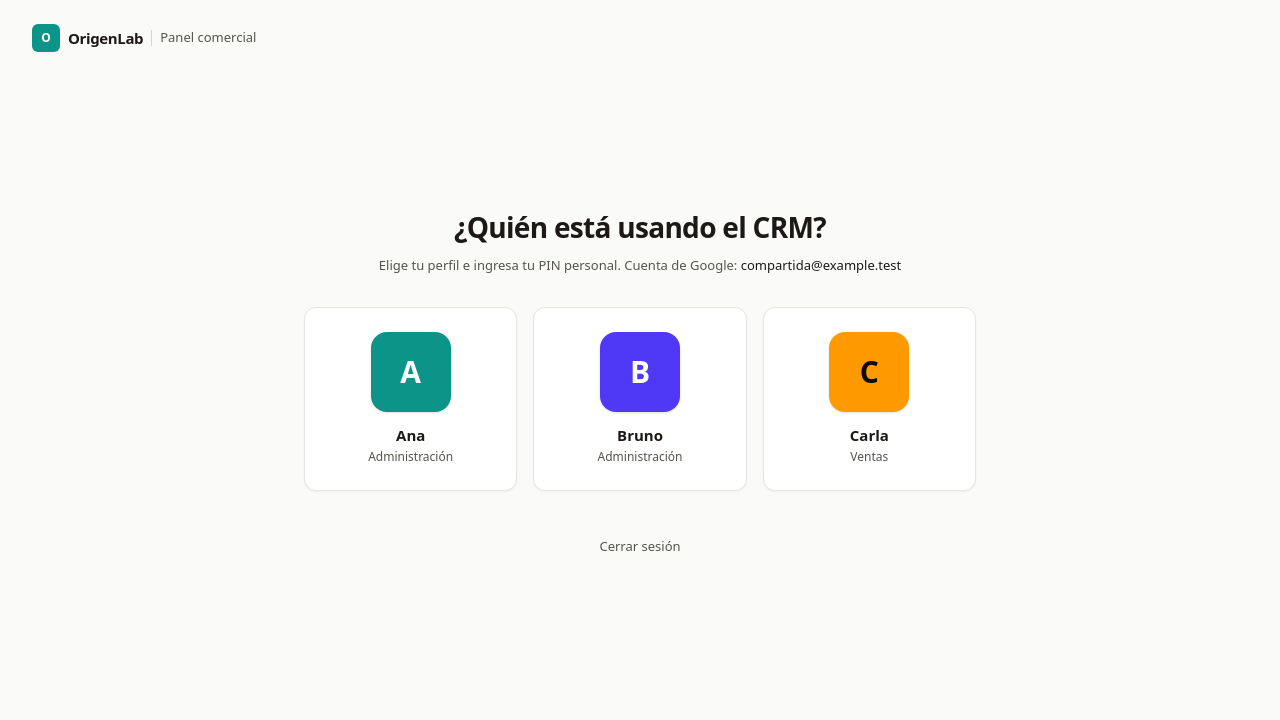
it: the profile screen › closes the dialog with Escape or Cancelar without sending anything
Click the button with test id "profile-card" at (640, 399), box [533,307,747,491]
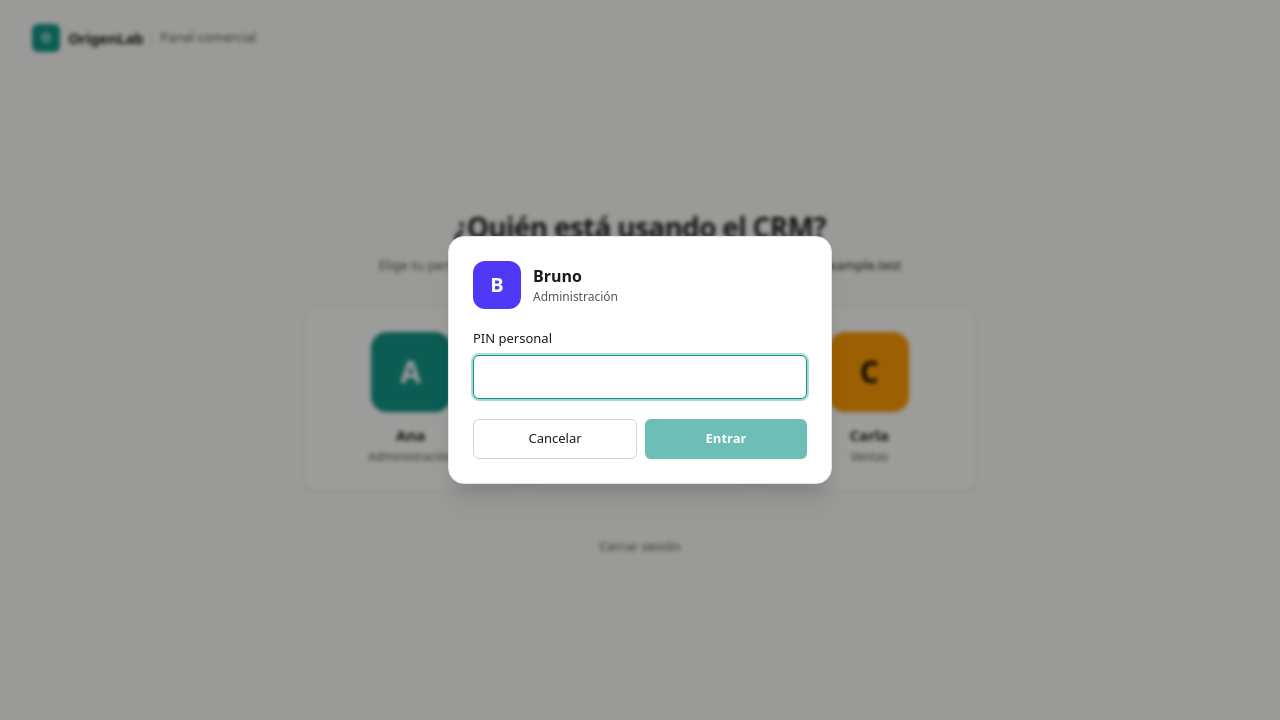
Press Escape in the dialog with test id "pin-dialog", box [448,236,832,484]
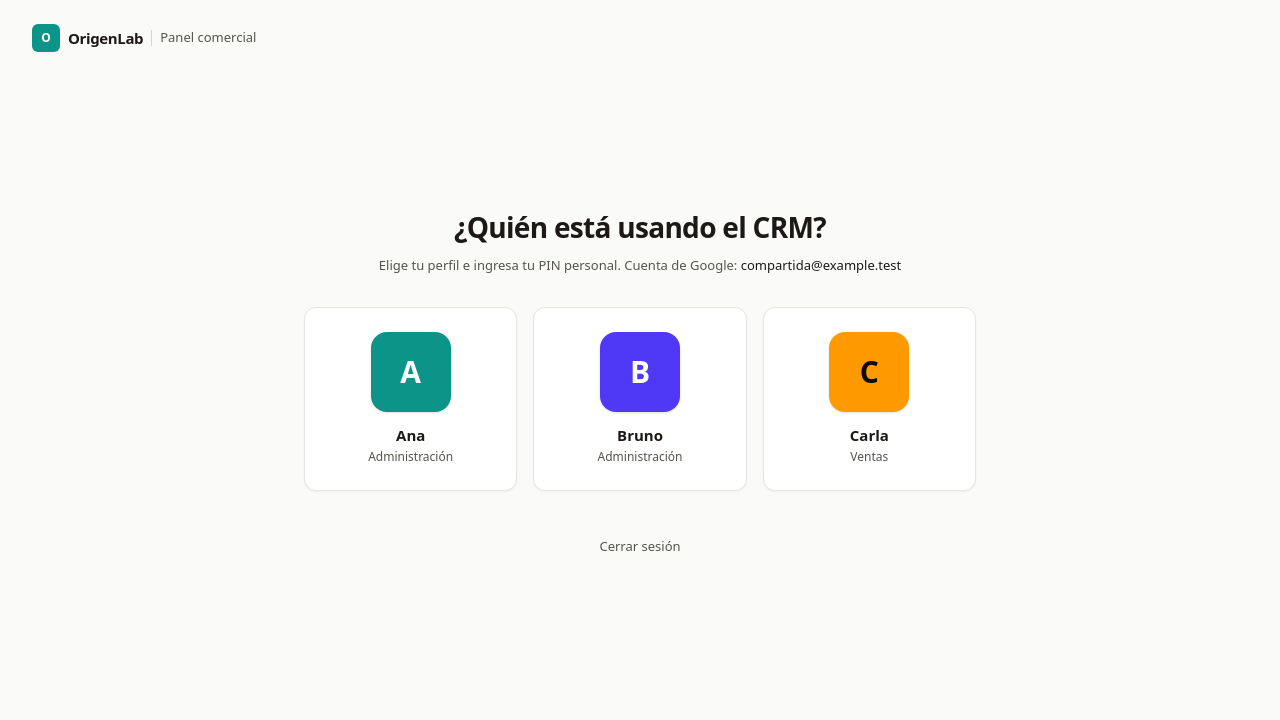
Check: the dialog with test id "pin-dialog" is gone
Click the button with test id "profile-card" at (640, 399), box [533,307,747,491]
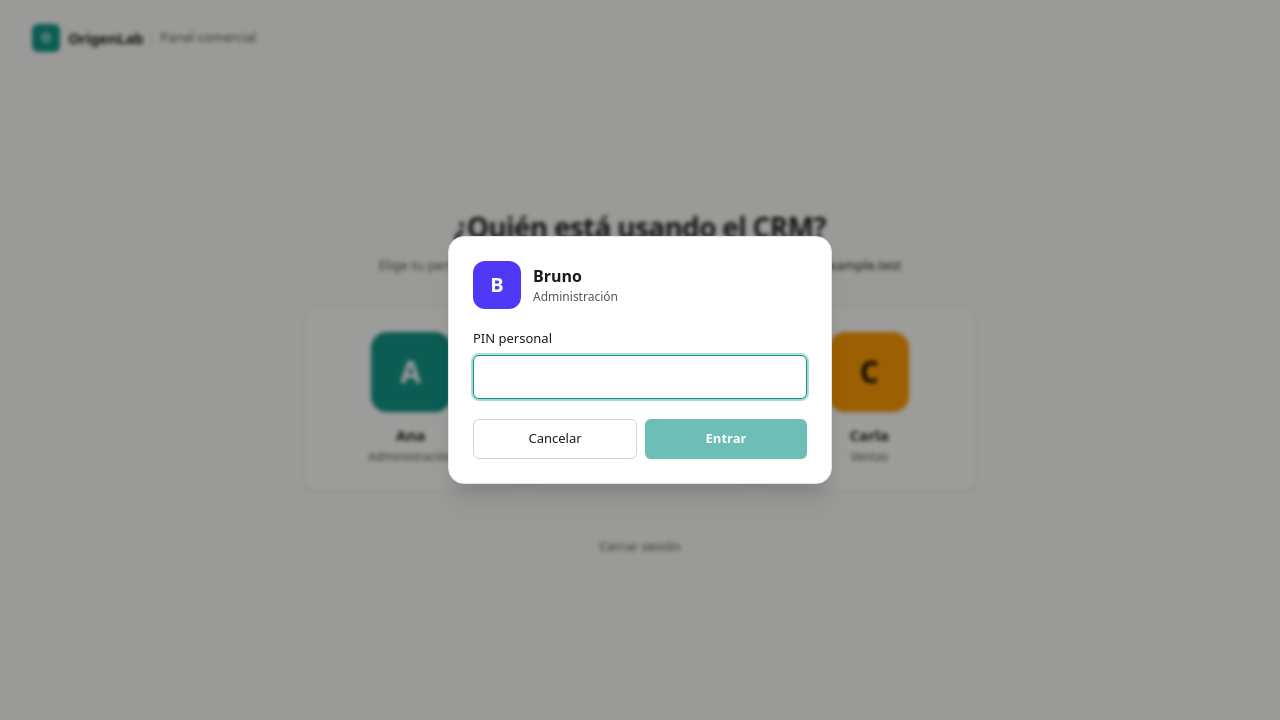
Click the button with test id "pin-cancel" at (555, 439), box [473,419,637,459]
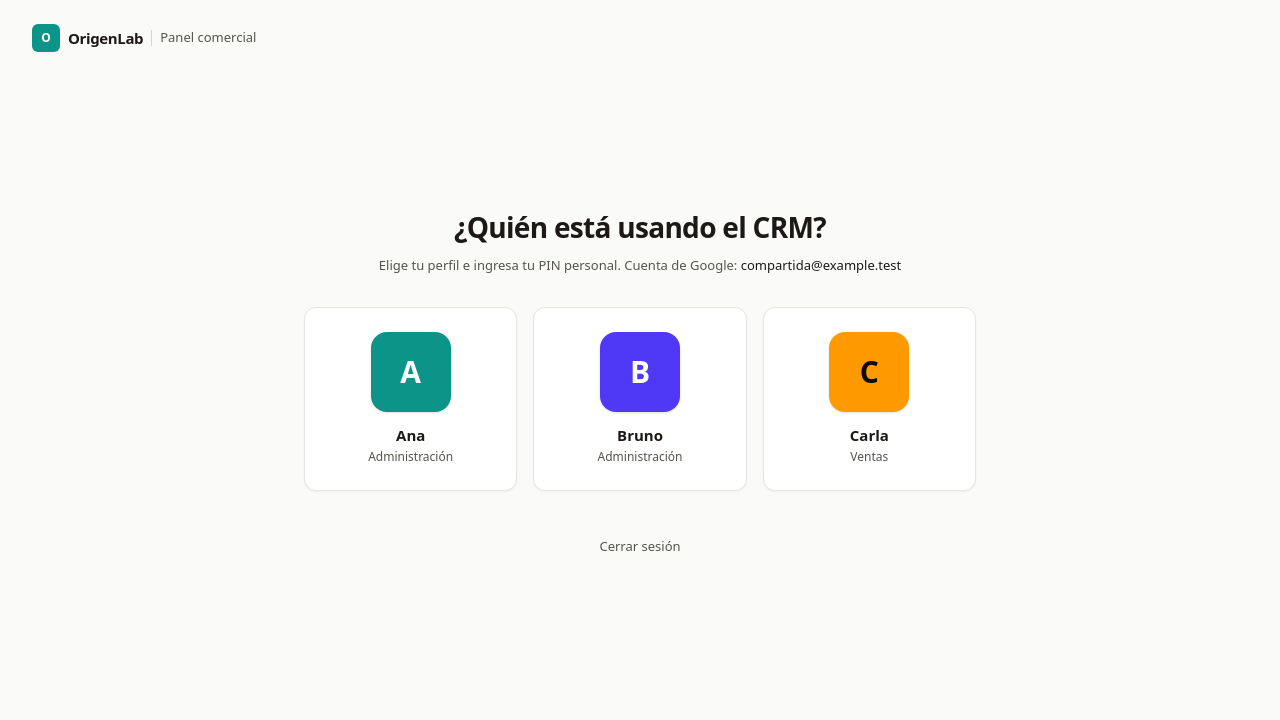
Check: the dialog with test id "pin-dialog" is gone
